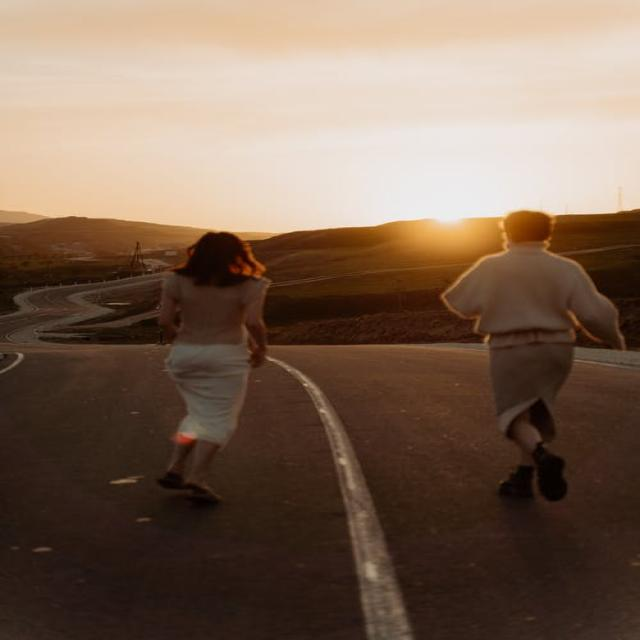running: (447, 210, 626, 508), (147, 227, 279, 510)
